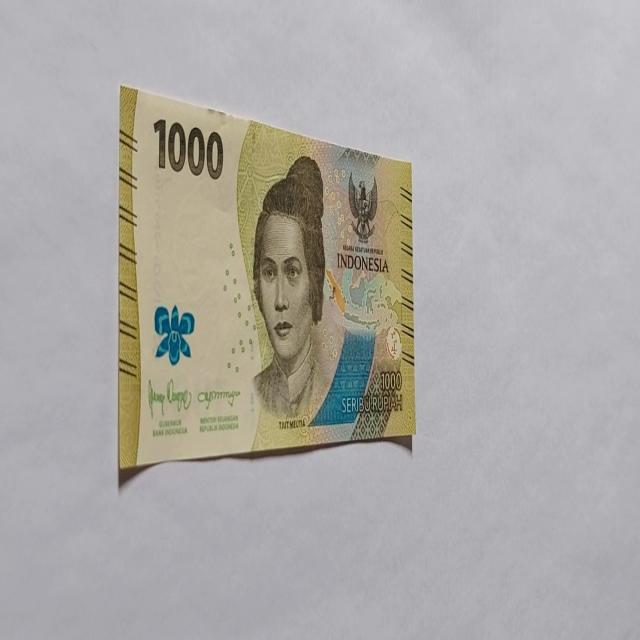seribu rupiah kertas: (117, 84, 415, 478)
